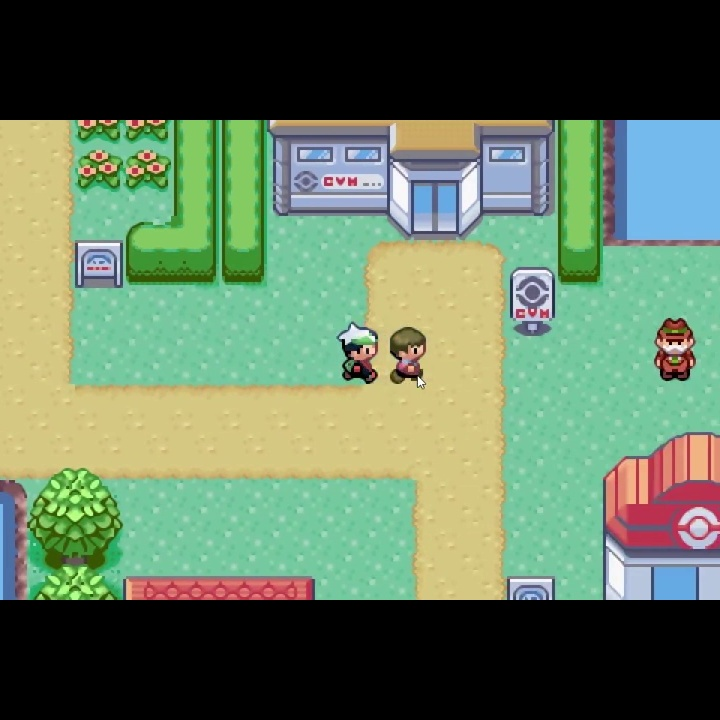agent: (336, 320, 379, 389)
gym: (266, 120, 556, 244)
npc: (650, 315, 699, 387), (386, 325, 428, 388)
pokecen: (598, 430, 720, 600)
